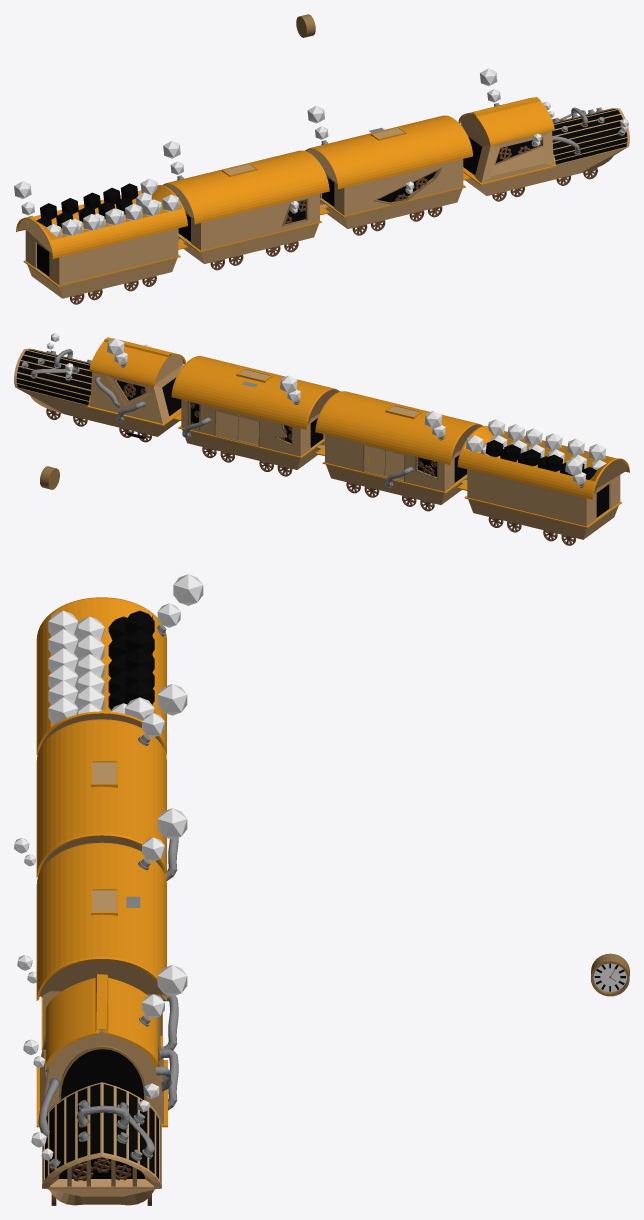
Rendered from Train_2.fbx.
3 views of the same model, one above another, from view 1: azimuth 30°, elevation 25°; view 2: azimuth 150°, elevation 25°; view 3: azimuth 270°, elevation 25° (orthographic). The views are drawn at different scales.
Visible parts, largest first — view 1: Cube.003, Cube.007, Cube.011, Cube.012; view 2: Cube.003, Cube.007, Cube.012, Cube.011, Clock Face.011, Cube.029, Cube.028, Cube.027; view 3: Cube.011, Cube.003, Cube.007, Cube.012, Cylinder.031, Clock Face.011.
Part boxes in pixels (<box>): Cube.003: <box>305,115,472,228</box>; Cube.007: <box>162,150,329,263</box>; Cube.011: <box>458,97,629,195</box>; Cube.012: <box>16,185,187,298</box>; Cube.003: <box>171,356,339,469</box>; Cube.007: <box>315,391,482,504</box>; Cube.012: <box>457,426,629,539</box>; Cube.011: <box>14,337,185,436</box>; Clock Face.011: <box>40,466,59,489</box>; Cube.029: <box>464,495,621,528</box>; Cube.028: <box>322,461,467,493</box>; Cube.027: <box>178,425,324,458</box>; Cube.011: <box>40,974,163,1205</box>; Cube.003: <box>36,842,166,1045</box>; Cube.007: <box>36,719,166,877</box>; Cube.012: <box>36,597,166,755</box>; Cylinder.031: <box>59,1045,145,1101</box>; Clock Face.011: <box>590,953,629,996</box>.
Size of the model in its own units: 8850 by 1546 by 4562.
